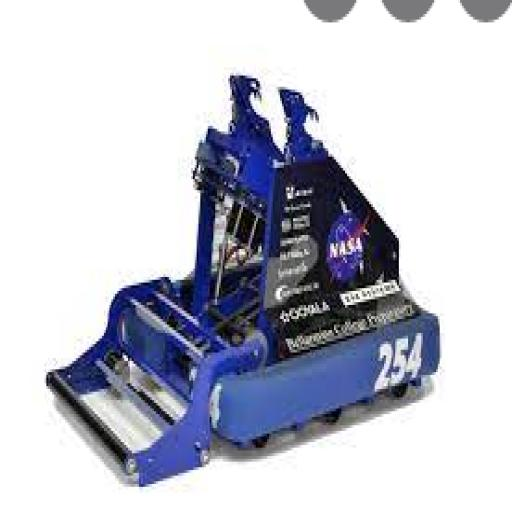robot: (46, 59, 447, 481)
